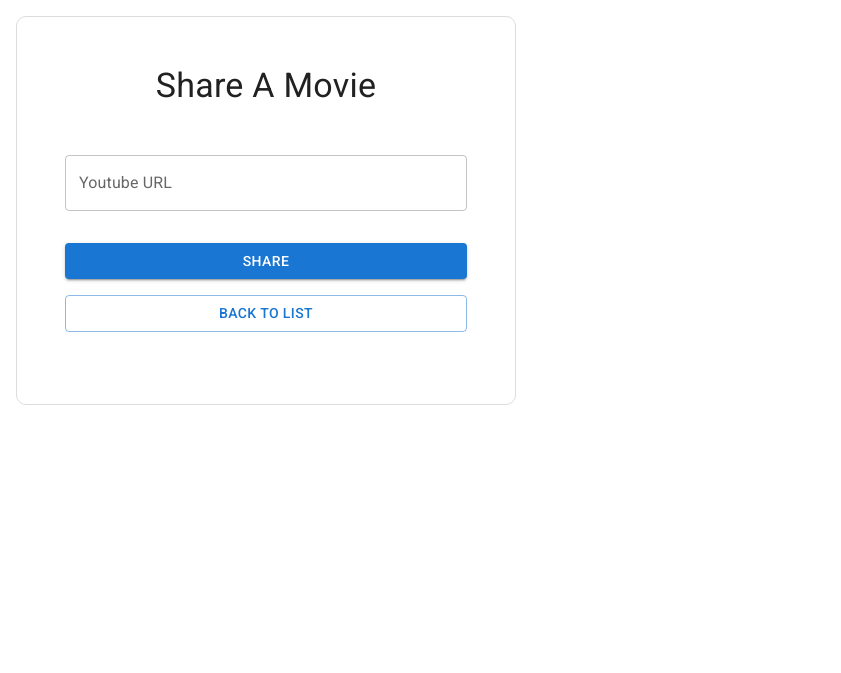
Test: share url successfully
Type "https://www.youtube.com/watch?v=chdLDqOfcwk" into the field labelled "Youtube URL" at (266, 183), box [65,155,467,211]
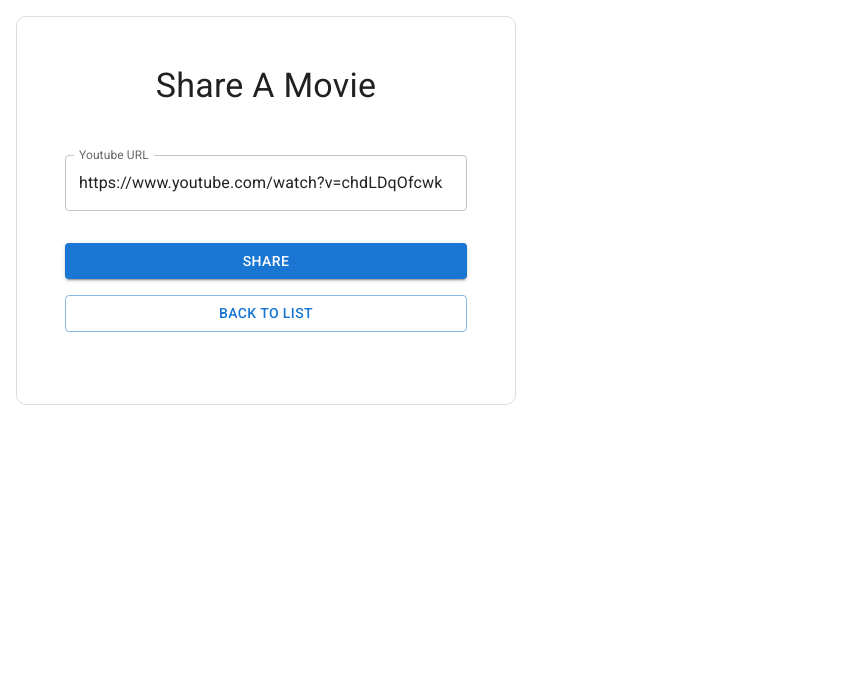
Click the button "Share" at (266, 261), box [65,243,467,280]
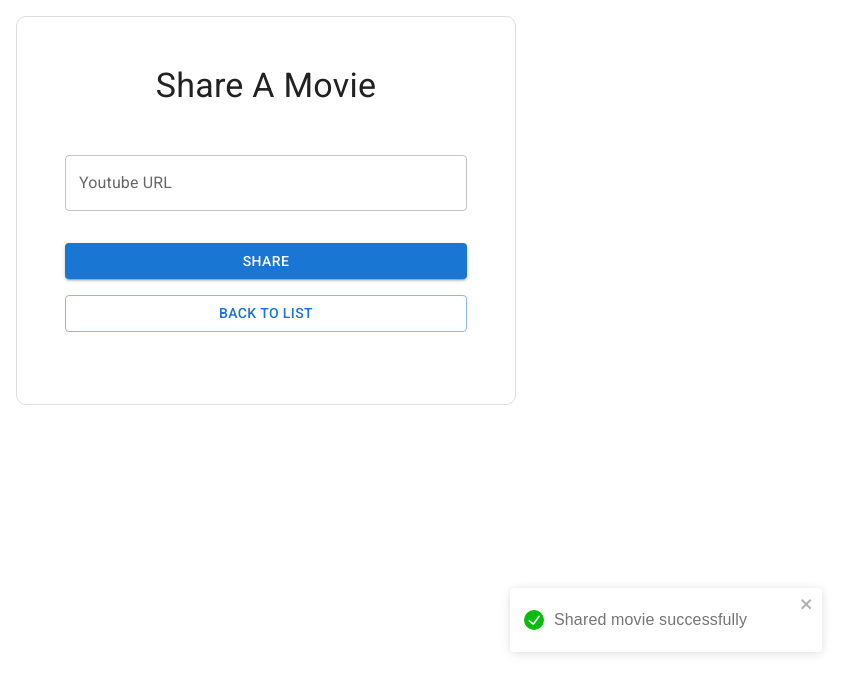
Result: the text "Shared movie successfully" is shown at [554,611,747,628]
